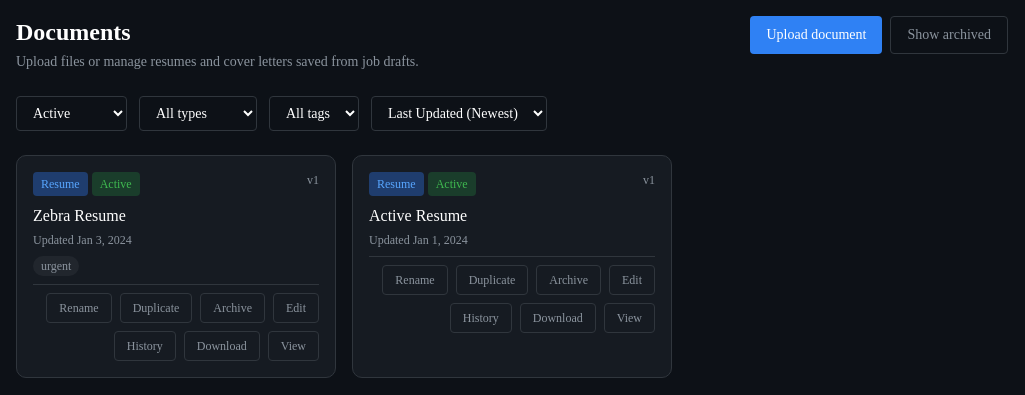
Test: DocumentsPage - S3-006 Library Filtering and Sorting › shows a no-match message when the type filter excludes all documents
Expected: the heading "Active Resume" is shown, [369, 207, 467, 224]
Select "Cover Letter" in the dropdown with test id "type-filter" at (198, 114), box [139, 96, 257, 131]
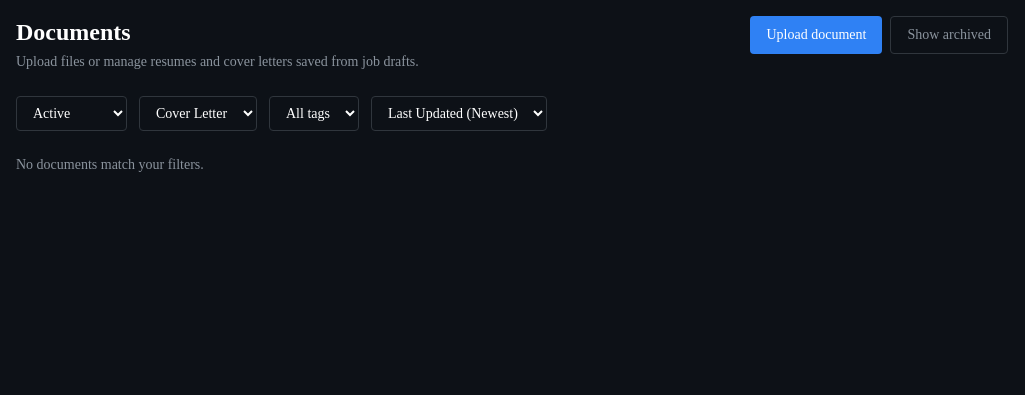
Expected: the text "No documents match your filters." is shown, [16, 157, 204, 172]
